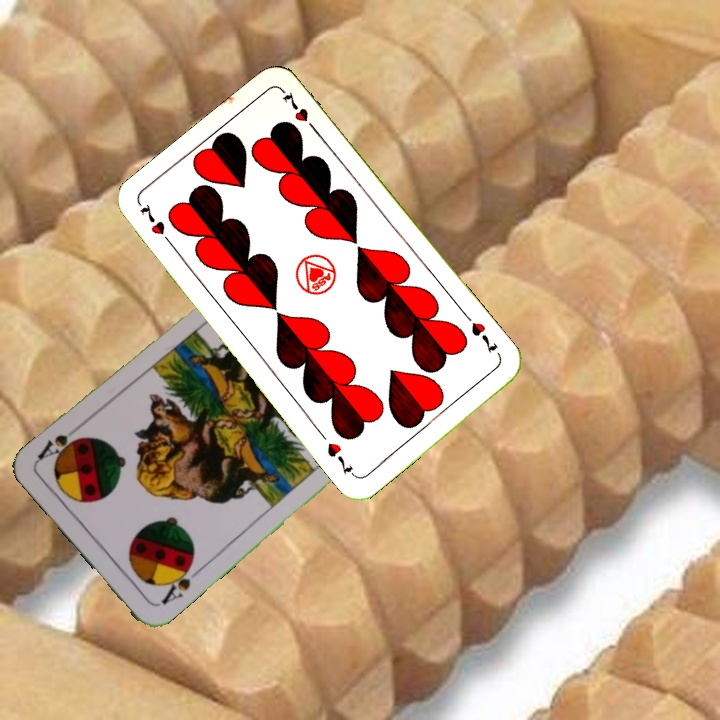H7: (136, 200, 177, 251), (467, 317, 500, 356)
SA: (157, 557, 204, 608)
